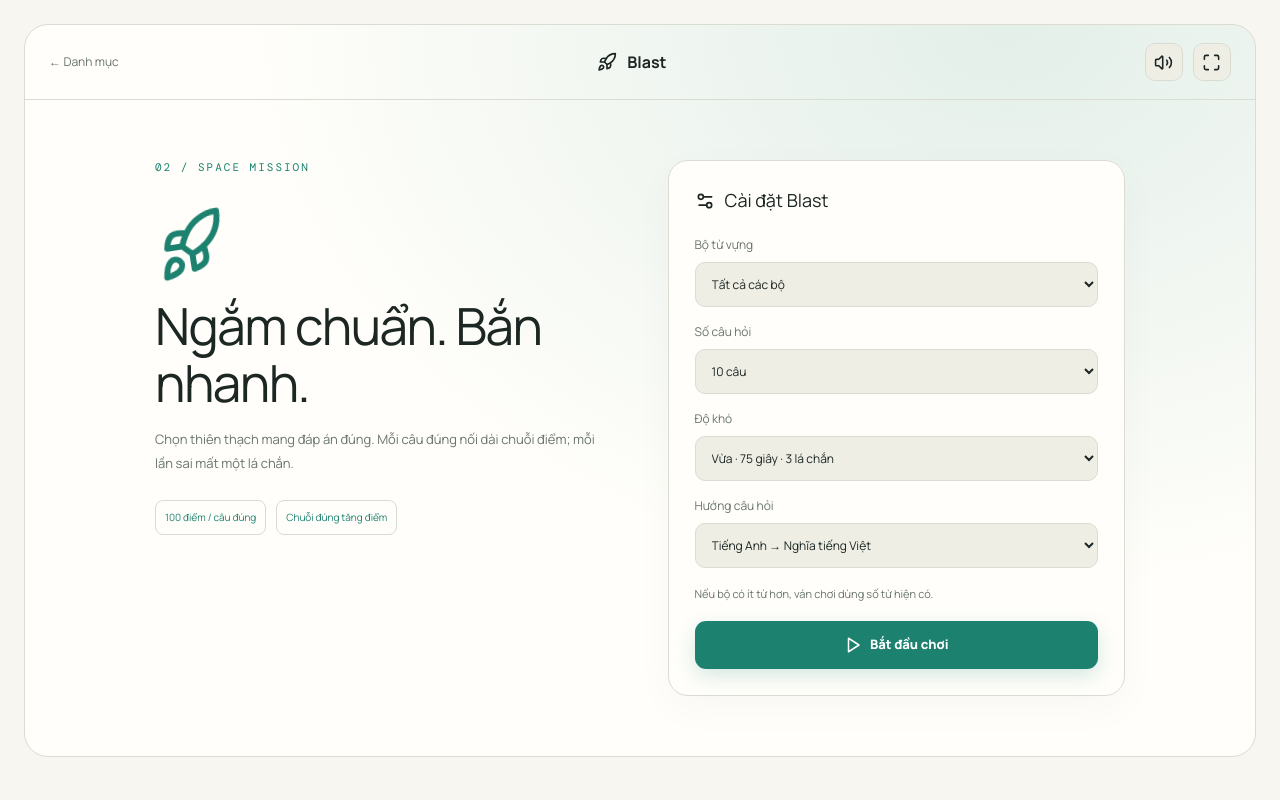
Test: shows loading failures and allows retry
This screenshot has width=1280, height=800.
Click the button "Bắt đầu chơi" at (896, 645), box [694,621,1098,669]
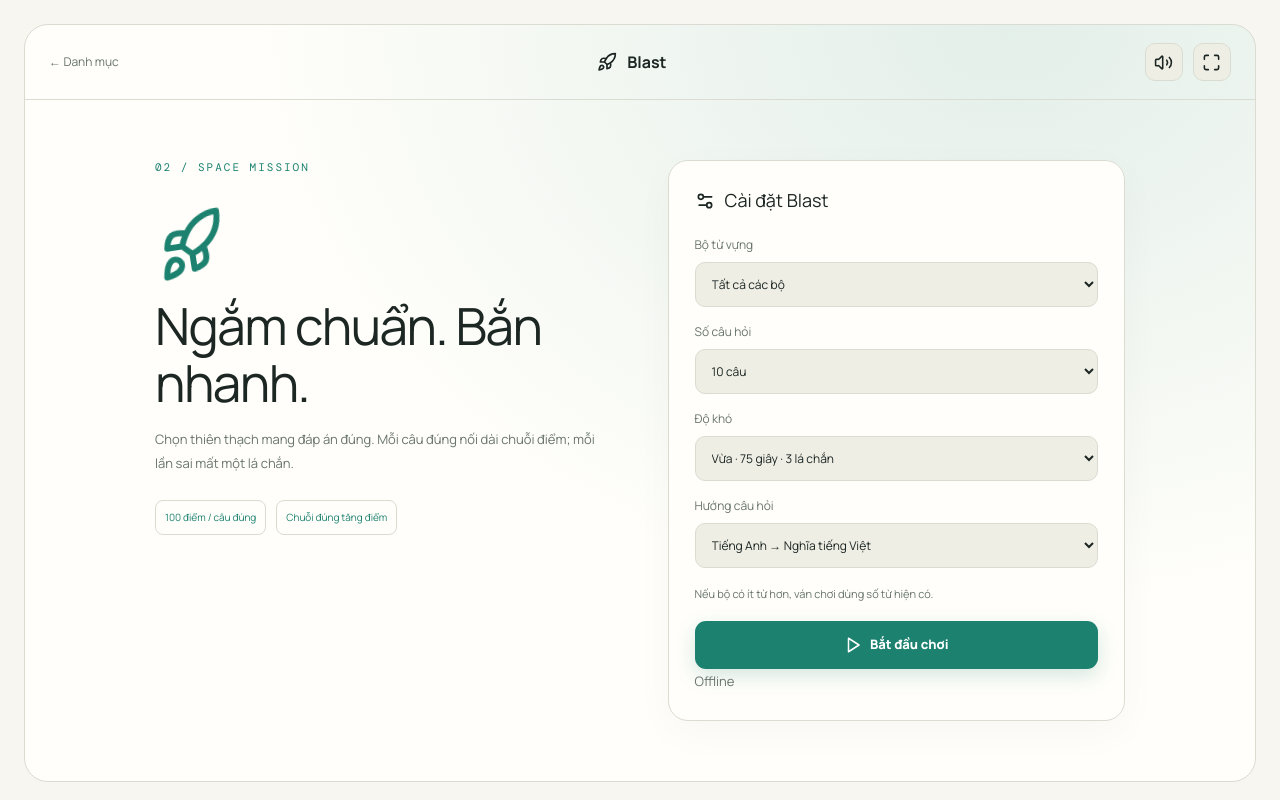
Check: the message reads "Offline", box [694,672,734,690]
Click the button "Bắt đầu chơi" at (896, 645), box [694,621,1098,669]
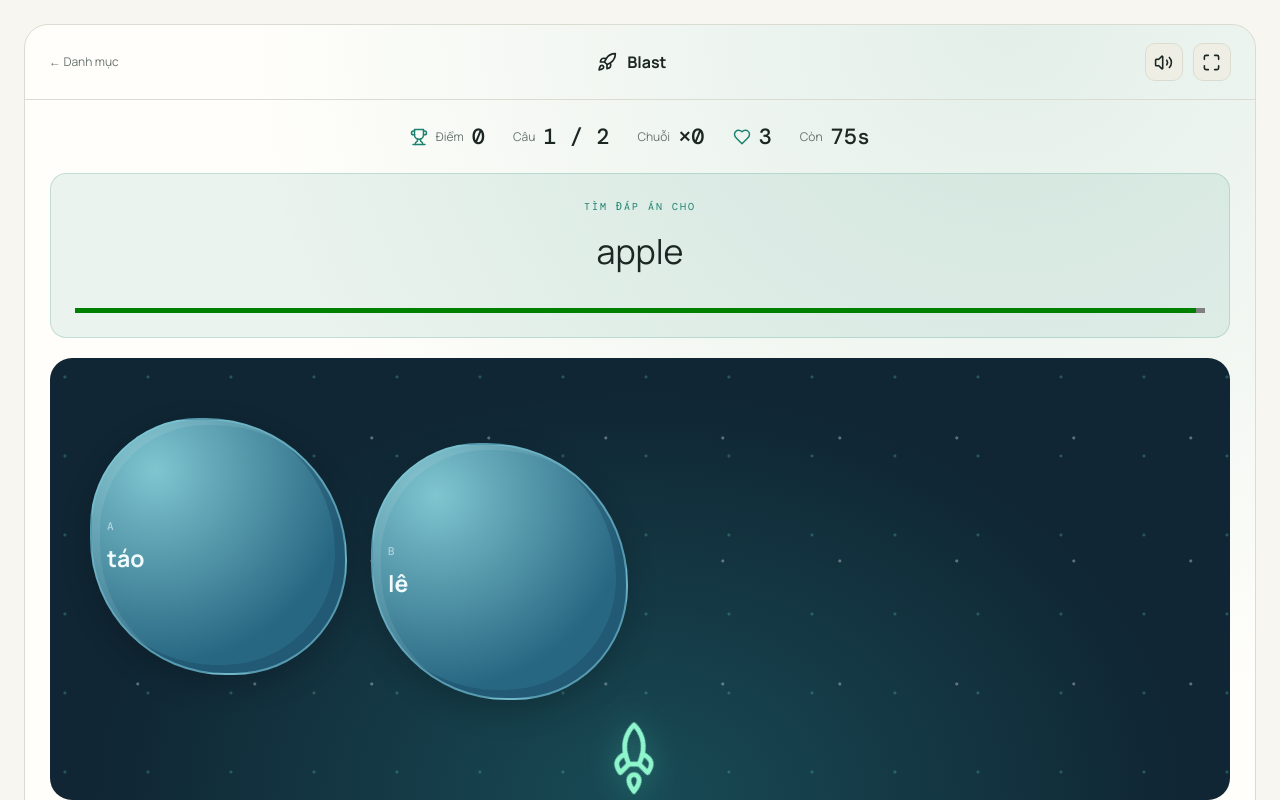
Check: the heading "apple" is shown, box [596,228,684,274]
